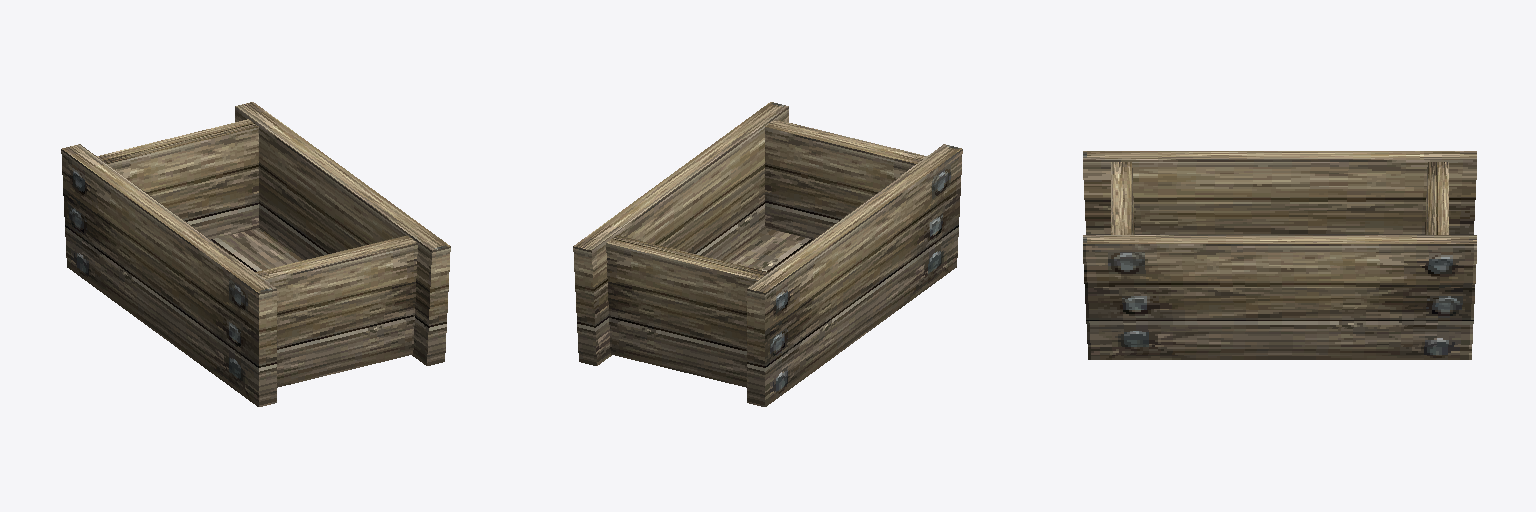
The picture shows the model from 3 angles: view 1: azimuth 30°, elevation 25°; view 2: azimuth 150°, elevation 25°; view 3: azimuth 270°, elevation 25°; orthographic projection.
Parts seen in each view (by area): view 1: object 1; view 2: object 1; view 3: object 1.
Part boxes in pixels (bbox=[...]): object 1: bbox=[61, 102, 450, 406]; object 1: bbox=[573, 102, 962, 406]; object 1: bbox=[1083, 151, 1476, 359].
Bounding box in the file's own units: 0.8578 × 0.5 × 1.53.
Materials: 1 (1 with a texture image).